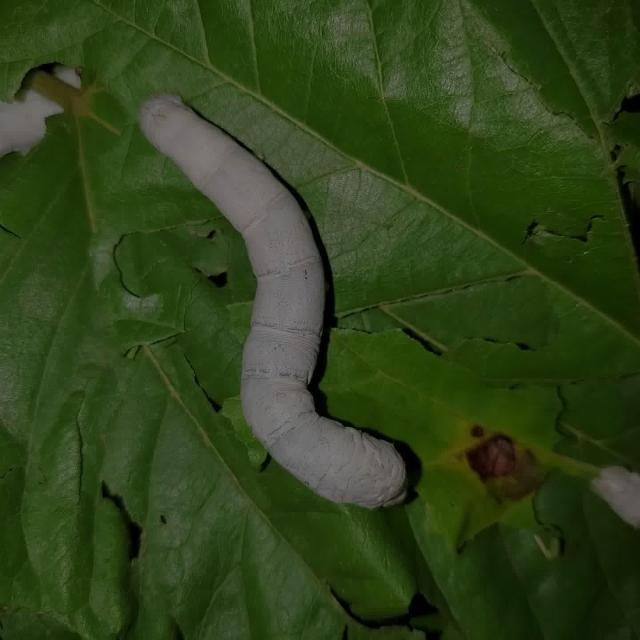Healthy: (116, 66, 436, 530)
